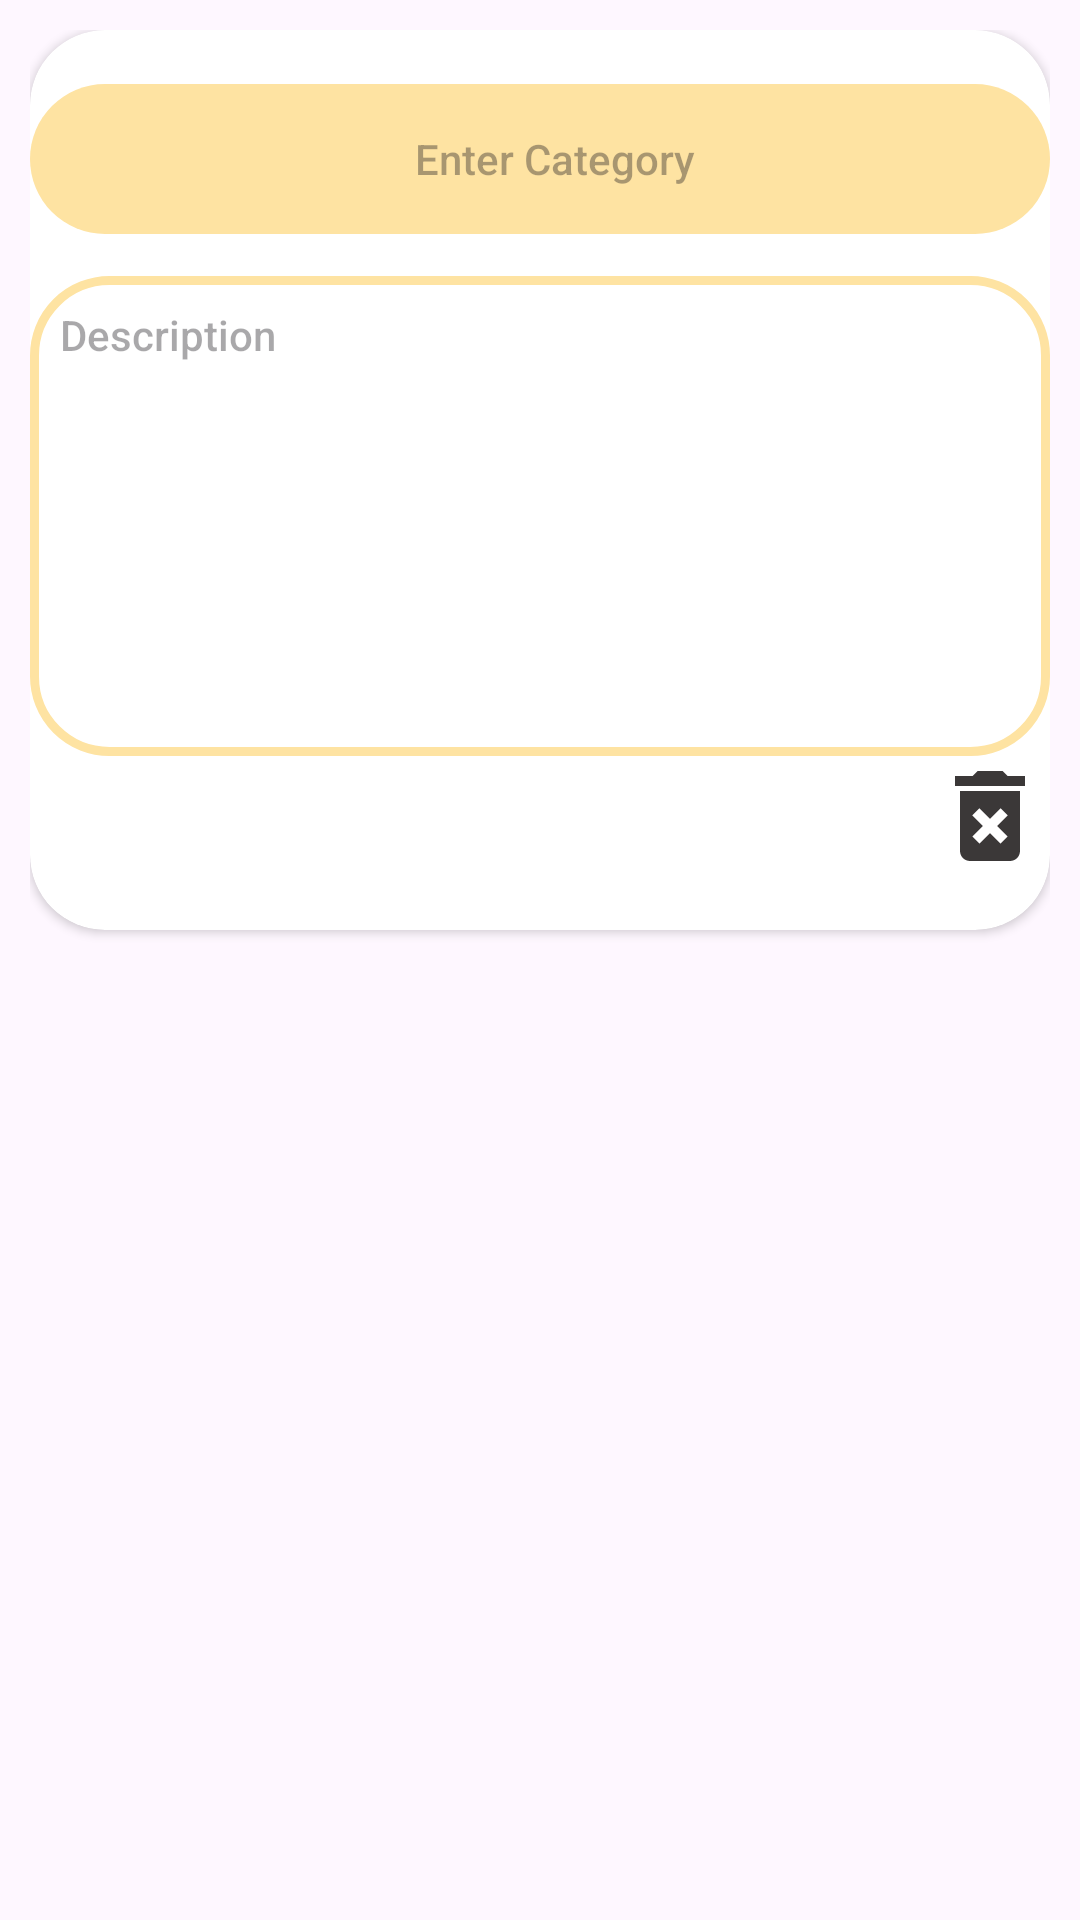

Screen size 1080x1920. Icon name, then its center in pixels as (x,y):
delete forever: (990,816)
